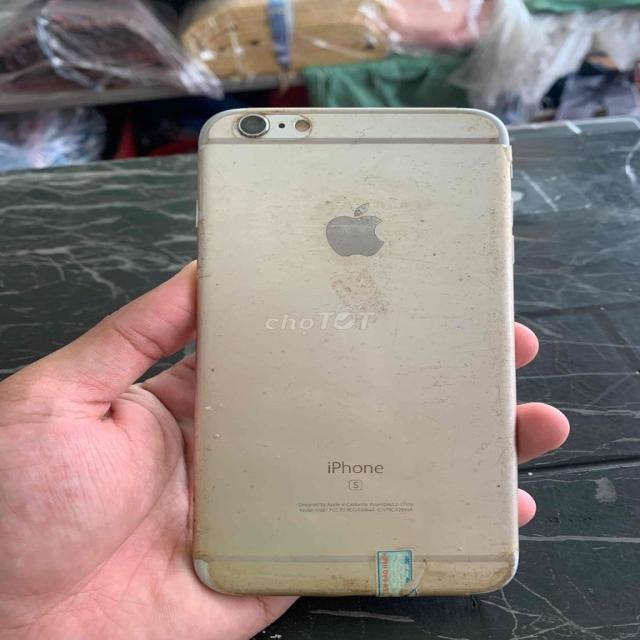gen_6: (180, 100, 532, 600)
scratch: (185, 527, 529, 606), (297, 154, 444, 336), (414, 338, 534, 492), (453, 109, 535, 308), (185, 359, 257, 484), (218, 104, 324, 152)
